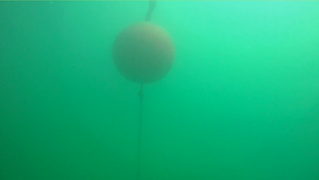buoy: (111, 21, 175, 84)
